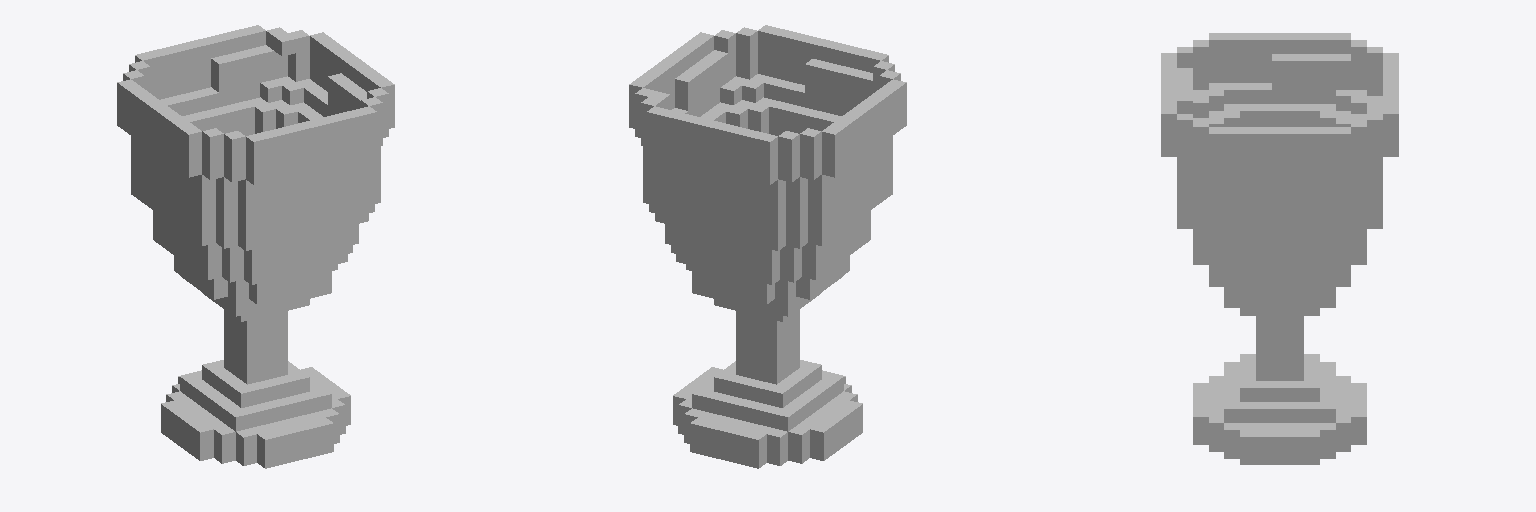
The model's file is mug.obj.
The picture shows the model from 3 angles: view 1: azimuth 30°, elevation 25°; view 2: azimuth 150°, elevation 25°; view 3: azimuth 270°, elevation 25°; orthographic projection.
Parts seen in each view (by area): view 1: object 1; view 2: object 1; view 3: object 1.
Boxes of the visible parts, x1,y1,x2,y2 form: object 1: [117, 25, 394, 468]; object 1: [629, 25, 906, 468]; object 1: [1161, 33, 1398, 464].
Size of the model in its own units: 1.5 by 2.4 by 1.5.